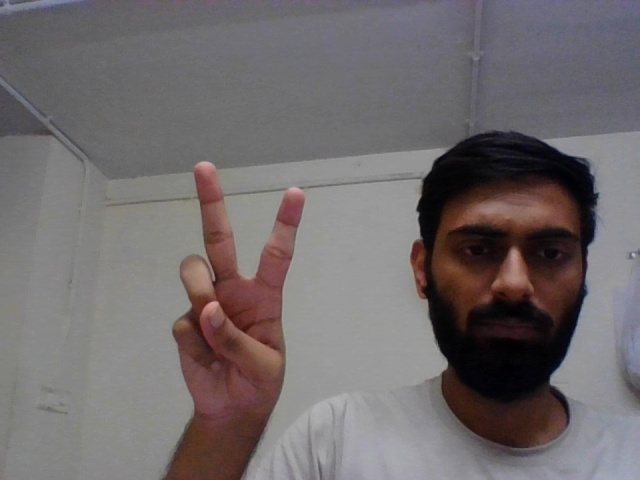V: (164, 158, 310, 452)
